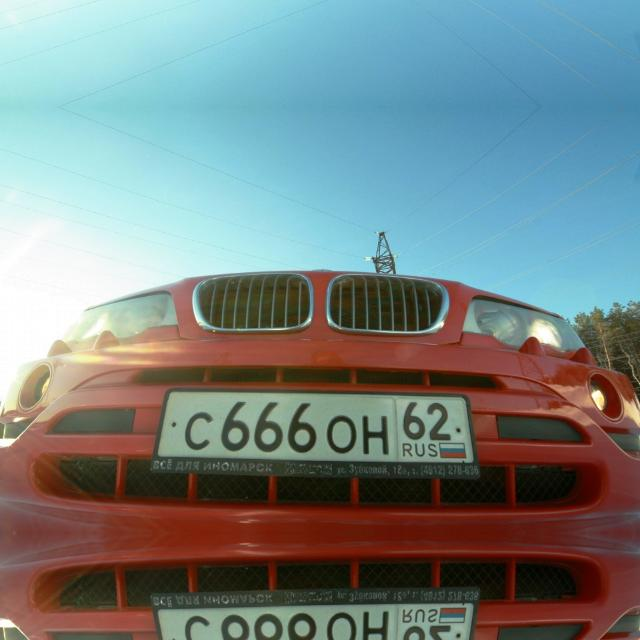citizen: (150, 383, 482, 481), (150, 584, 481, 640)
